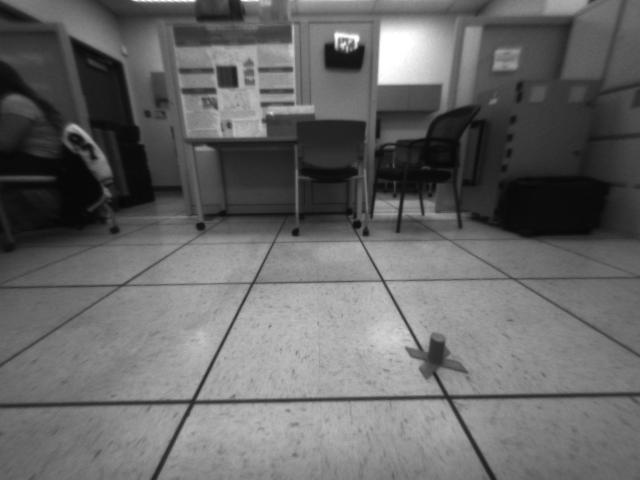X: (403, 332, 469, 379)
